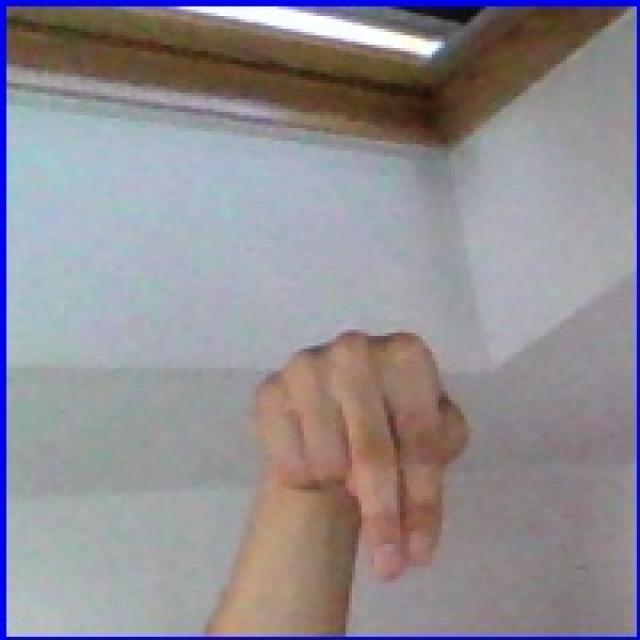Letra-N: (187, 320, 509, 640)
